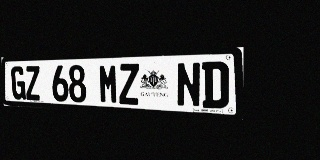6: (52, 65, 69, 102)
8: (68, 65, 86, 103)
D: (202, 61, 229, 109)
G: (11, 66, 26, 100)
M: (99, 64, 119, 104)
N: (176, 62, 201, 108)
Z: (118, 63, 140, 105), (25, 66, 41, 101)
